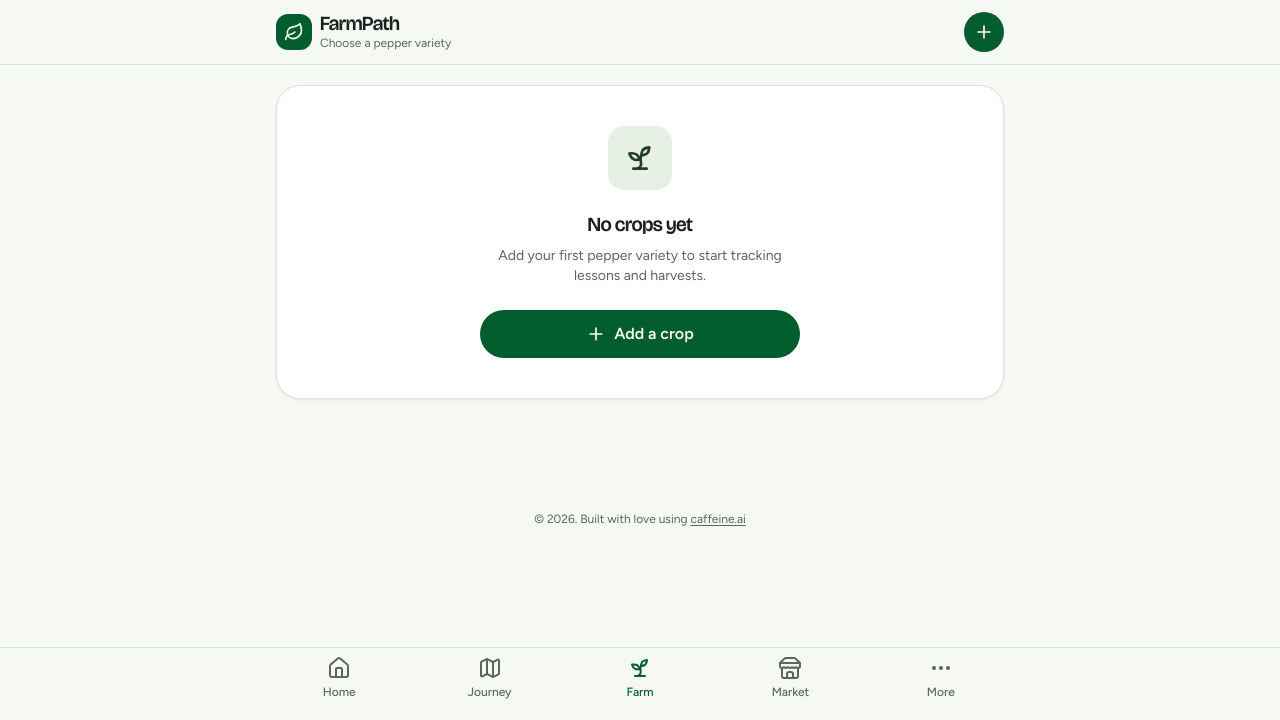
Scenario: Crops › keeps the submit button disabled until a name is entered
The width and height of the screenshot is (1280, 720).
Click the button with test id "crops.add_button" at (640, 334), box [480,310,800,358]
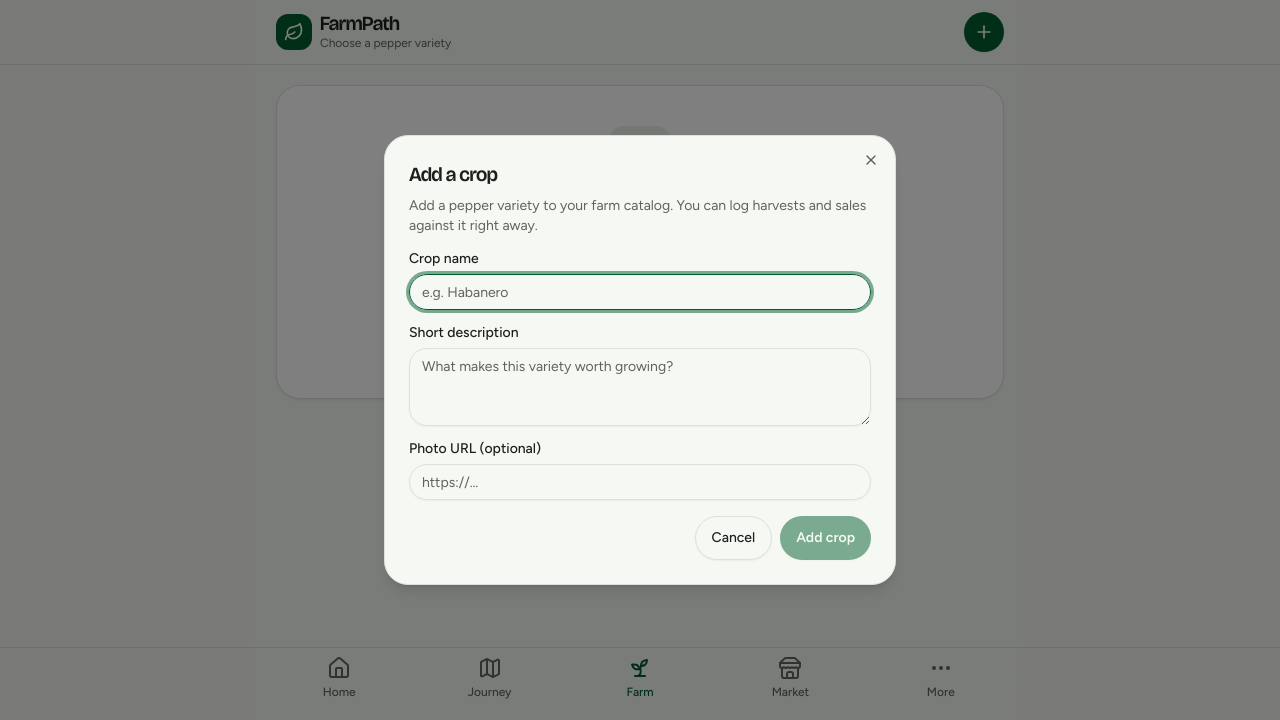
Check: the button with test id "crops.submit_button" is disabled, box [780,516,871,560]
Type "Aji" into the field with test id "crops.name_input" at (640, 292), box [409,274,871,310]
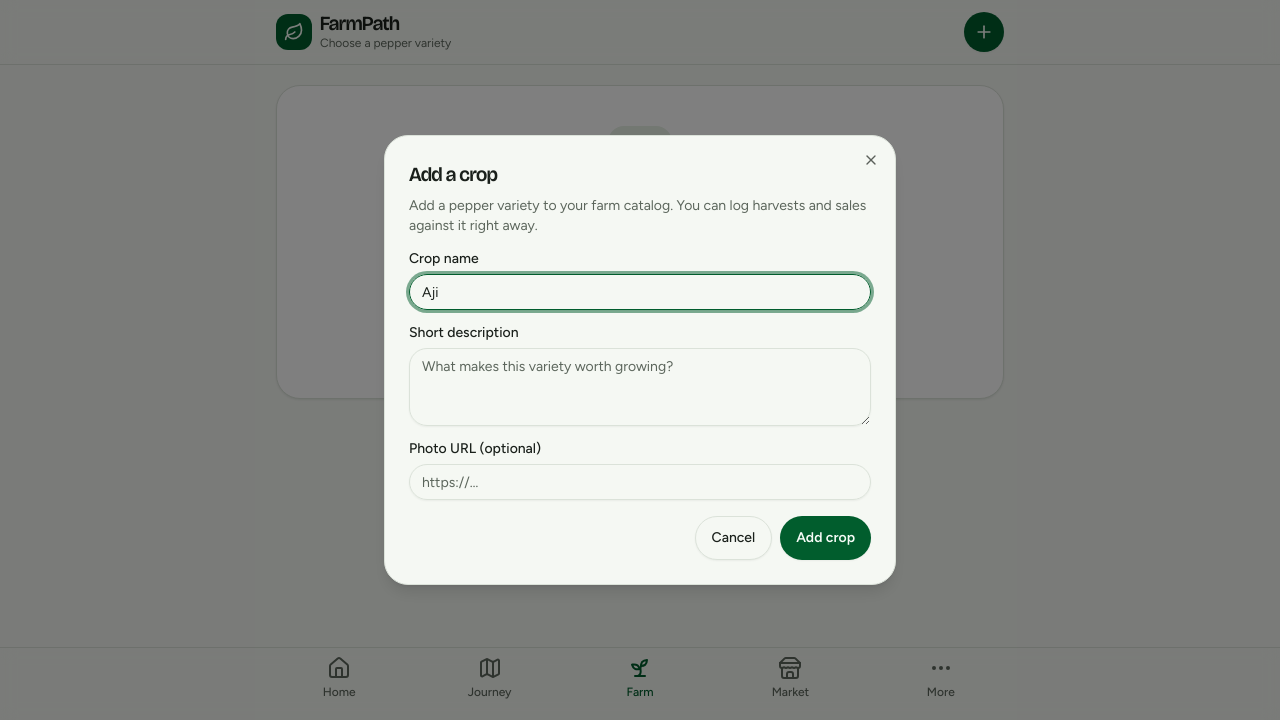
Check: the button with test id "crops.submit_button" is enabled, box [780,516,871,560]
